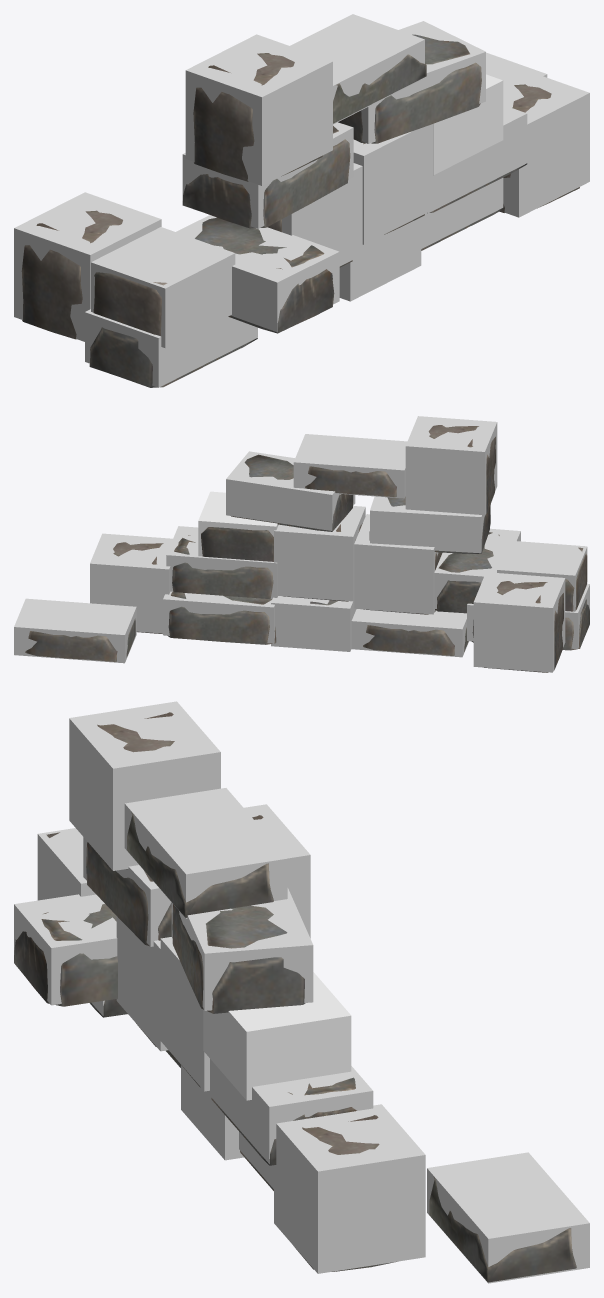
The model's file is Wall_B.fbx.
3 views of the same model, one above another, from view 1: azimuth 30°, elevation 25°; view 2: azimuth 150°, elevation 25°; view 3: azimuth 270°, elevation 25° (orthographic). The views are drawn at different scales.
Visible parts, largest first — view 1: Cube_16, Cube_1, Cube_14, Cube_15, Cube_12, Cube_7, Rock_A2__6_, Cube_8, Rock_A2__4_, Rock_A4__5_, Rock_A4__3_, Cube_2 (+13 smaller); view 2: Cube_15, Cube_16, Cube_12, Cube_14, Cube_13, Cube_4, Cube_10, Cube_6, Cube_8, Cube_11, Rock_A2__2_, Rock_A2__3_ (+19 smaller); view 3: Cube_14, Cube_16, Cube_10, Cube_8, Cube, Rock_A2__4_, Cube_3, Cube_4, Cube_7, Rock_A2__5_, Cube_12, Rock_A1__2_ (+10 smaller).
Boxes of the visible parts, bbox=[...] form: Cube_16: bbox=[185, 34, 332, 185]; Cube_1: bbox=[91, 227, 235, 348]; Cube_14: bbox=[493, 66, 589, 217]; Cube_15: bbox=[14, 192, 161, 341]; Cube_12: bbox=[353, 124, 434, 244]; Cube_7: bbox=[176, 215, 339, 332]; Rock_A2__6_: bbox=[182, 126, 350, 228]; Cube_8: bbox=[290, 14, 424, 124]; Rock_A2__4_: bbox=[338, 34, 481, 143]; Rock_A4__5_: bbox=[193, 53, 322, 181]; Rock_A4__3_: bbox=[21, 210, 122, 339]; Cube_2: bbox=[85, 309, 257, 387]; Cube_15: bbox=[473, 572, 565, 672]; Cube_16: bbox=[405, 416, 497, 516]; Cube_12: bbox=[274, 506, 365, 601]; Cube_14: bbox=[90, 533, 172, 633]; Cube_13: bbox=[354, 514, 438, 614]; Cube_4: bbox=[226, 451, 355, 530]; Cube_10: bbox=[14, 598, 136, 663]; Cube_6: bbox=[370, 496, 490, 553]; Cube_8: bbox=[293, 434, 407, 498]; Cube_11: bbox=[271, 596, 356, 651]; Rock_A2__2_: bbox=[167, 592, 276, 644]; Rock_A2__3_: bbox=[172, 535, 273, 598]; Cube_14: bbox=[274, 1104, 425, 1273]; Cube_16: bbox=[69, 701, 220, 870]; Cube_10: bbox=[427, 1152, 589, 1283]; Cube_8: bbox=[124, 788, 287, 918]; Cube: bbox=[203, 972, 351, 1100]; Rock_A2__4_: bbox=[172, 904, 305, 1013]; Cube_3: bbox=[208, 1059, 373, 1163]; Cube_4: bbox=[171, 888, 313, 1010]; Cube_7: bbox=[14, 894, 117, 1005]; Rock_A2__5_: bbox=[14, 904, 117, 1006]; Cube_12: bbox=[160, 937, 209, 1091]; Rock_A1__2_: bbox=[429, 1176, 576, 1282].
Bounding box in the file's own units: 515 × 213 × 353.
2 materials, 1 textured.
